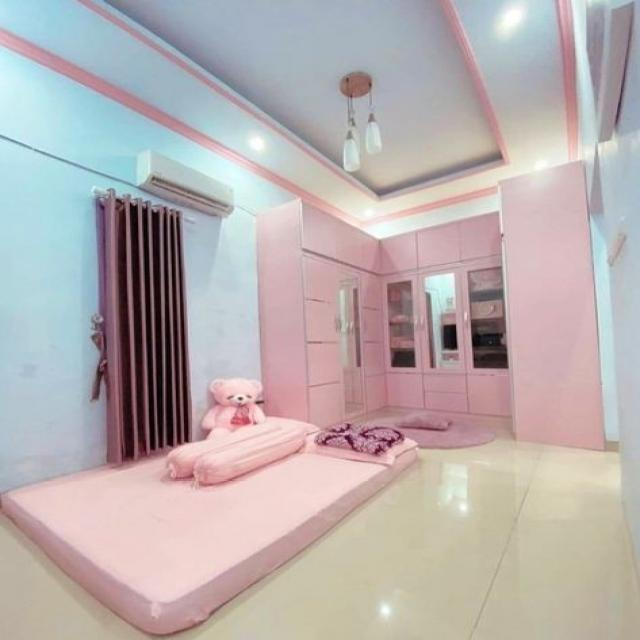AC: (133, 149, 233, 219)
